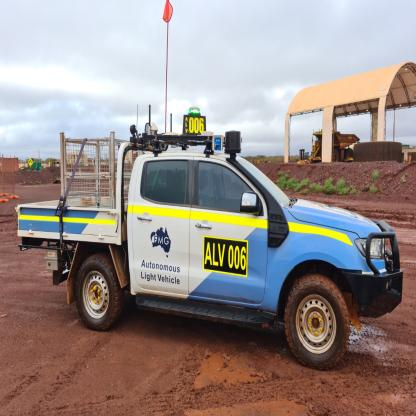light_vehicle: (15, 106, 402, 390)
